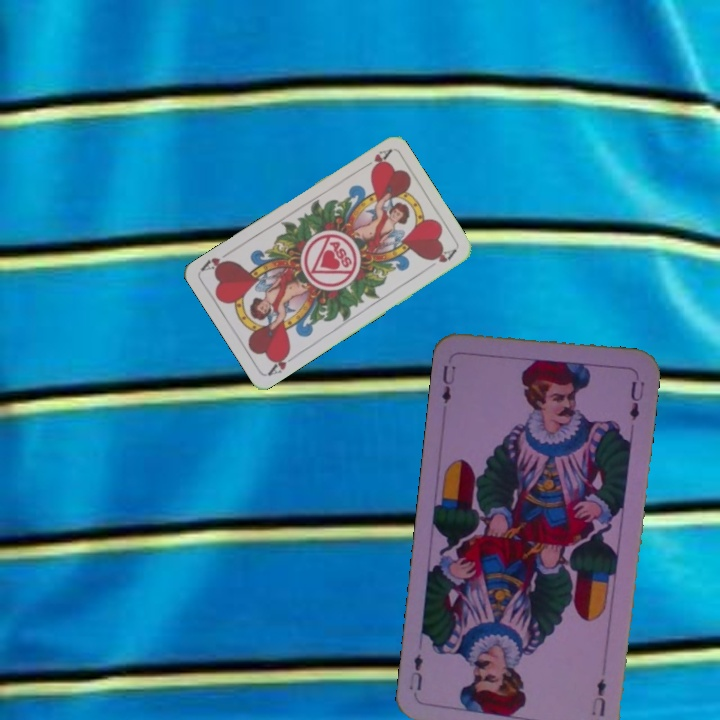EU: (437, 361, 458, 406), (588, 674, 609, 719)
HA: (264, 346, 300, 378), (356, 145, 394, 173)
